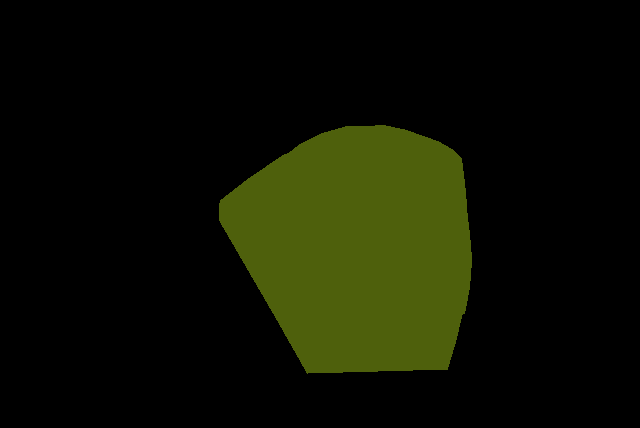Train: (219, 125, 471, 374)
